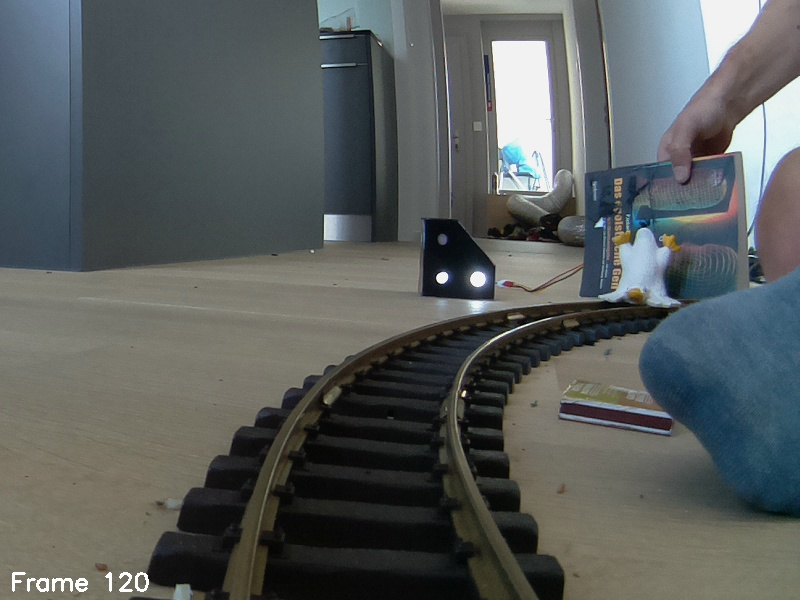Halt: (422, 218, 497, 302)
